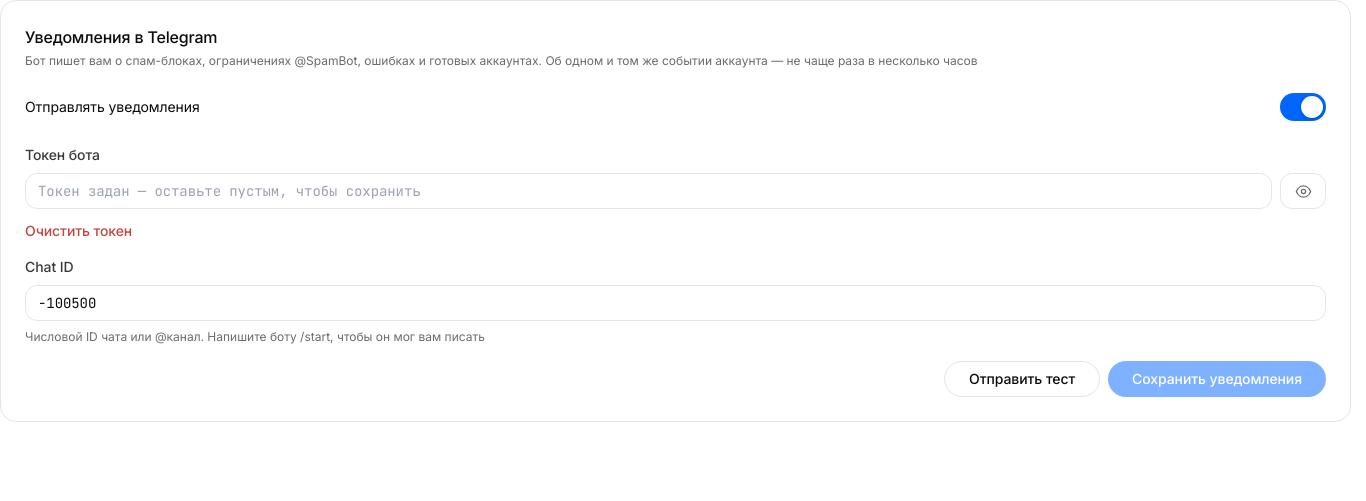
it: a save shows the stored row at once, without waiting on another settings fetch
This screenshot has width=1366, height=501.
Click the switch named "Отправлять уведомления" at (1303, 107), box [1280,93,1326,121]
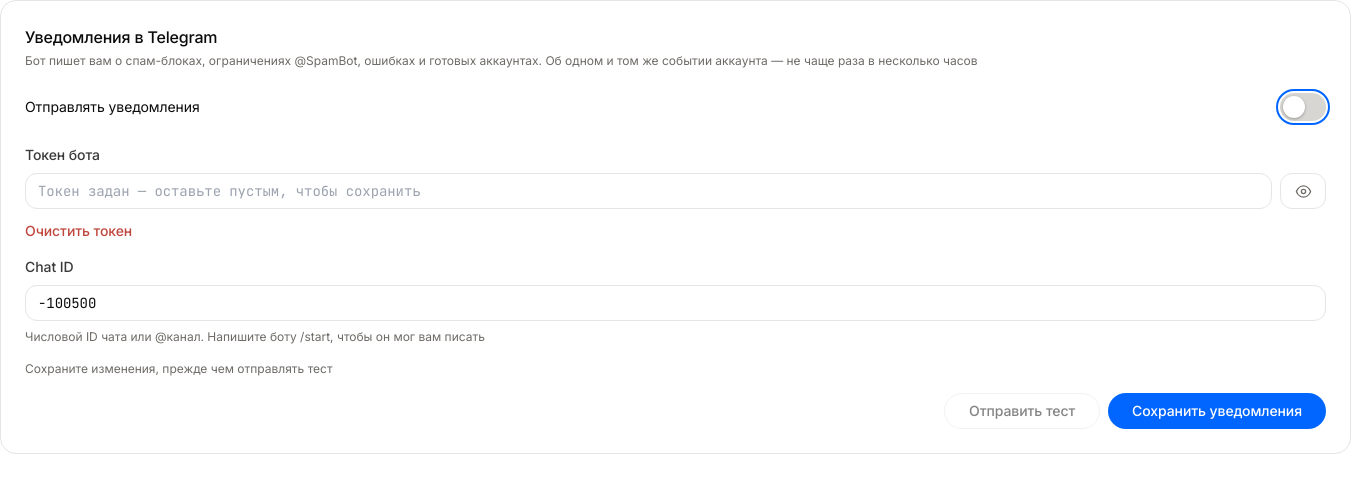
Click the button "Сохранить уведомления" at (1217, 411), box [1108,393,1326,429]
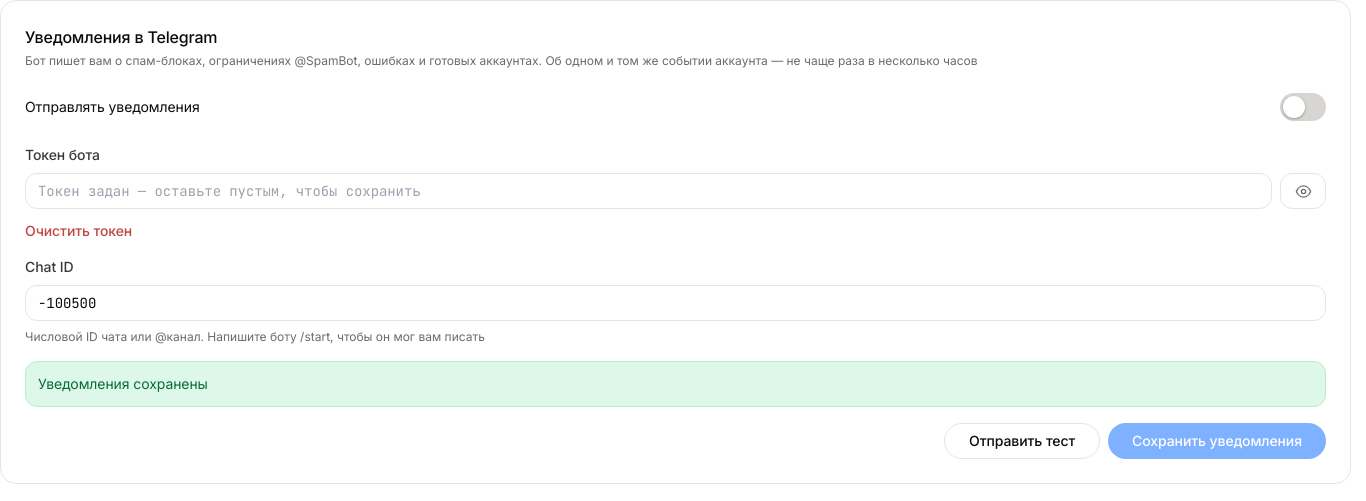
Check: the switch named "Отправлять уведомления" is not checked, box [1280,93,1326,121]
Check: the message reads "Уведомления сохранены", box [38,375,208,392]
Check: the button "Сохранить уведомления" is disabled, box [1108,423,1326,459]
